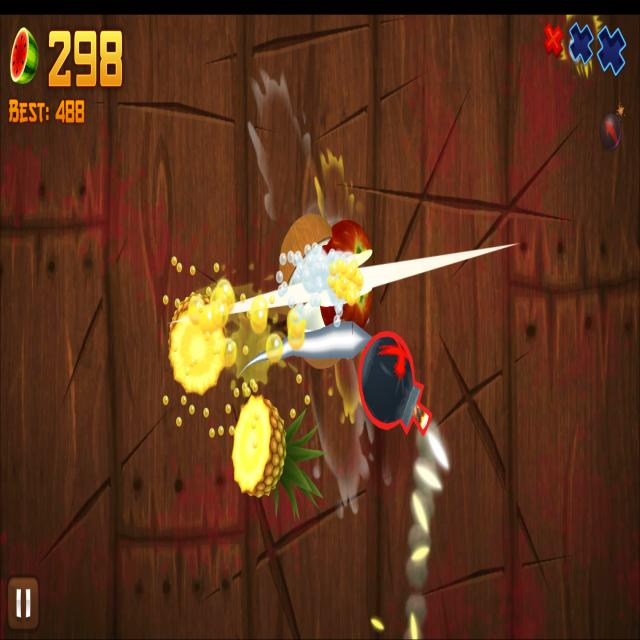bomb: (357, 331, 432, 436)
